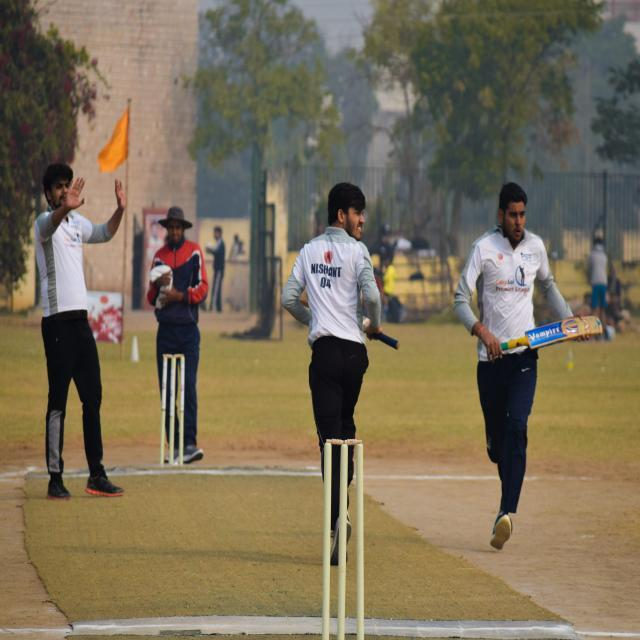stumps: (320, 432, 369, 638), (160, 352, 186, 467)
